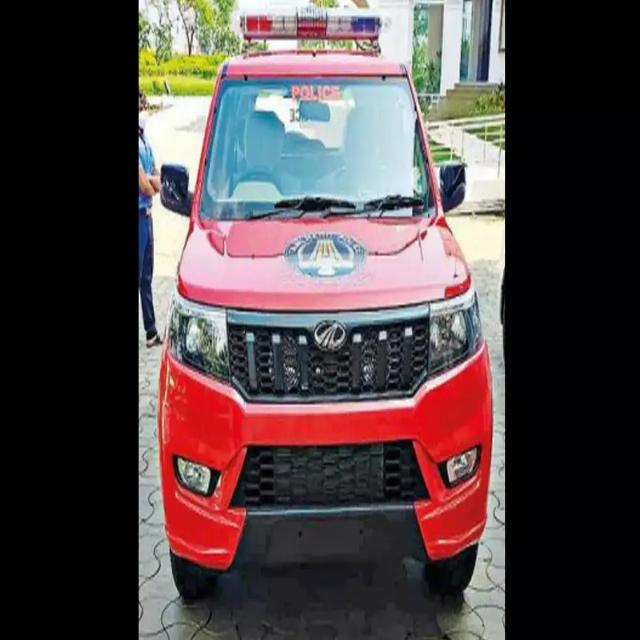Police: (155, 8, 503, 602)
